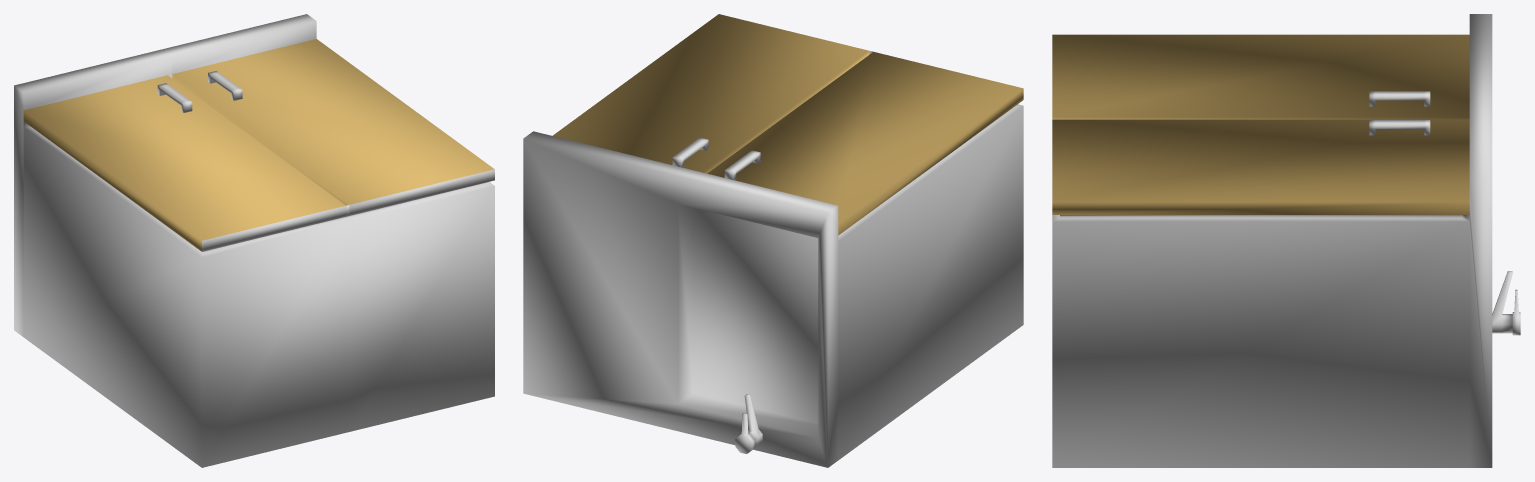
The picture shows the model from 3 angles, left to right: view 1: azimuth 30°, elevation 25°; view 2: azimuth 150°, elevation 25°; view 3: azimuth 270°, elevation 25°; orthographic projection. The views are drawn at different scales.
Parts seen in each view (by area): view 1: Cube.002; view 2: Cube.002; view 3: Cube.002.
Boxes of the visible parts, left/top/right/bottom form: Cube.002: left=14, top=14, right=494, bottom=467; Cube.002: left=523, top=14, right=1023, bottom=467; Cube.002: left=1052, top=14, right=1520, bottom=467.
Size of the model in its own units: 81 by 64.7 by 95.74.
